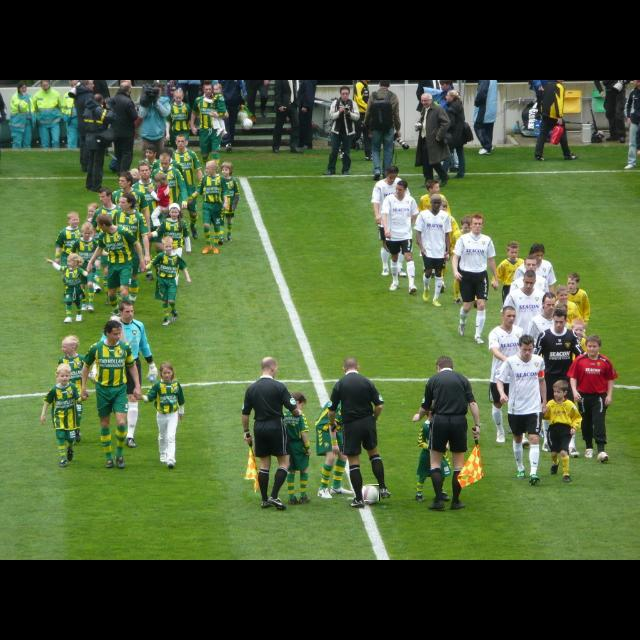Football: (364, 485, 380, 501)
